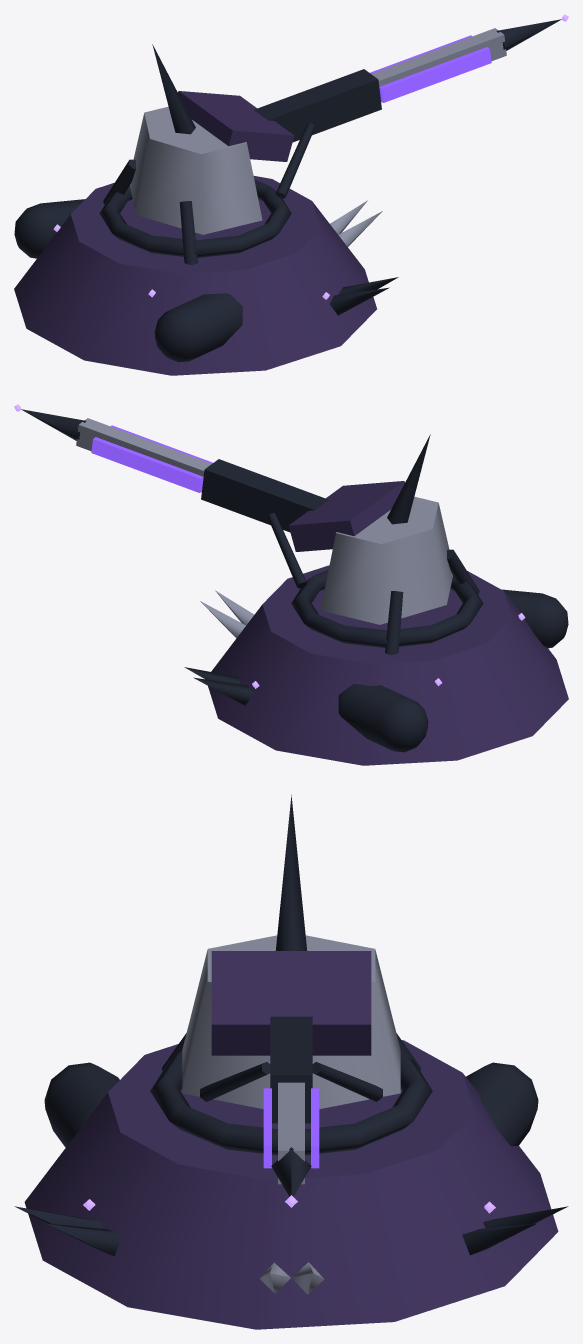
File: sentinel-turret-hadron.glb
The picture shows the model from 3 angles, top to bottom: view 1: azimuth 30°, elevation 25°; view 2: azimuth 150°, elevation 25°; view 3: azimuth 270°, elevation 25°; orthographic projection. The views are drawn at different scales.
Visible parts, largest first — view 1: base_frustum, head_wedge, rail_root, head_visor, base_collar, ammo_pod_l, rail_mid, ammo_pod_r, rail_vane_l, head_crest, feed_pipe_l, recoil_strut_l (+3 smaller); view 2: base_frustum, head_wedge, rail_root, head_visor, base_collar, ammo_pod_r, rail_mid, ammo_pod_l, rail_vane_r, head_crest, feed_pipe_r, recoil_strut_r (+4 smaller); view 3: base_frustum, head_visor, head_wedge, base_collar, ammo_pod_r, ammo_pod_l, rail_root, head_crest, rail_mid, skirt_blade_2_r, recoil_strut_r, recoil_strut_l (+6 smaller).
Part boxes in pixels (left/top/right/bottom): base_frustum: left=14, top=176, right=376, bottom=375; head_wedge: left=130, top=106, right=262, bottom=234; rail_root: left=254, top=69, right=381, bottom=142; head_visor: left=178, top=91, right=294, bottom=161; base_collar: left=99, top=179, right=291, bottom=257; ammo_pod_l: left=154, top=293, right=242, bottom=362; rail_mid: left=371, top=28, right=506, bottom=101; ammo_pod_r: left=14, top=199, right=85, bottom=258; rail_vane_l: left=379, top=47, right=491, bottom=102; head_crest: left=152, top=44, right=195, bottom=134; feed_pipe_l: left=179, top=201, right=197, bottom=265; recoil_strut_l: left=275, top=123, right=315, bottom=198; base_frustum: left=208, top=565, right=568, bottom=765; head_wedge: left=320, top=496, right=452, bottom=624; rail_root: left=201, top=459, right=328, bottom=532; head_visor: left=288, top=481, right=404, bottom=551; base_collar: left=291, top=569, right=483, bottom=647; ammo_pod_r: left=338, top=684, right=428, bottom=752; rail_mid: left=76, top=418, right=211, bottom=491; ammo_pod_l: left=502, top=589, right=568, bottom=648; rail_vane_r: left=91, top=437, right=203, bottom=492; head_crest: left=387, top=434, right=430, bottom=524; feed_pipe_r: left=385, top=591, right=403, bottom=655; recoil_strut_r: left=267, top=513, right=307, bottom=588; base_frustum: left=24, top=1040, right=558, bottom=1329; head_visor: left=211, top=951, right=371, bottom=1055; head_wedge: left=182, top=935, right=400, bottom=1109; base_collar: left=150, top=1051, right=432, bottom=1155; ammo_pod_r: left=466, top=1062, right=538, bottom=1146; ammo_pod_l: left=44, top=1062, right=119, bottom=1147; rail_root: left=270, top=1016, right=312, bottom=1123; head_crest: left=275, top=794, right=307, bottom=950; rail_mid: left=278, top=1082, right=304, bottom=1184; skirt_blade_2_r: left=46, top=1223, right=122, bottom=1255; recoil_strut_r: left=312, top=1062, right=382, bottom=1101; recoil_strut_l: left=200, top=1062, right=270, bottom=1101.
Bounding box in the file's own units: 110 × 52.56 × 67.53.
